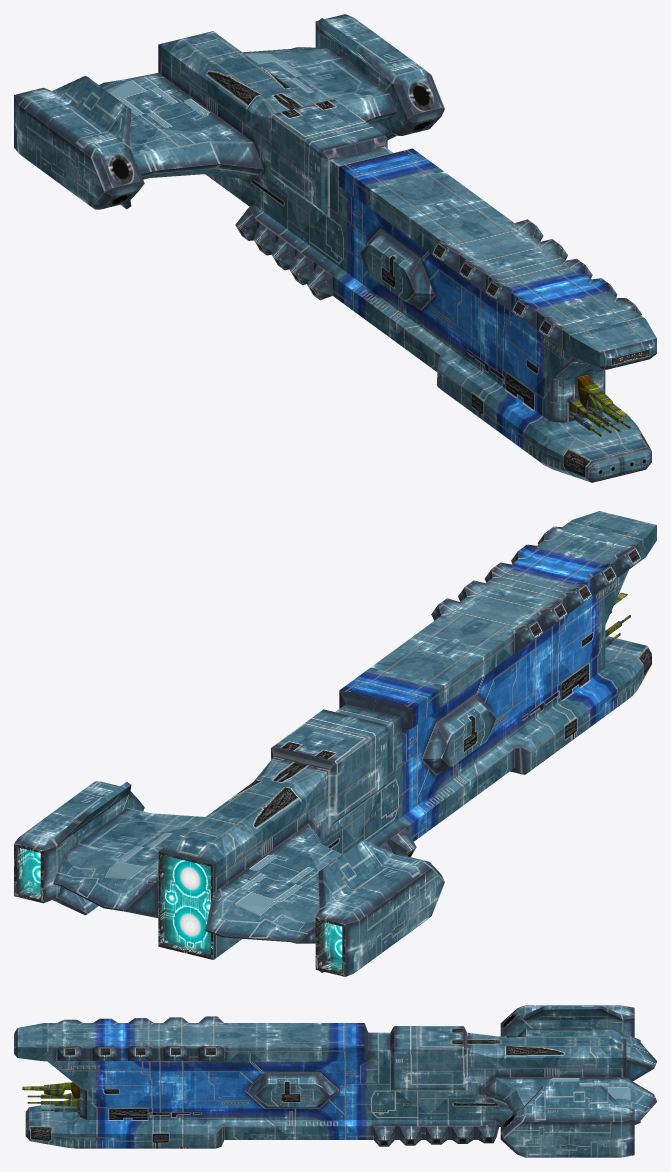
File: kahan.gltf
The picture shows the model from 3 angles, top to bottom: view 1: azimuth 30°, elevation 25°; view 2: azimuth 150°, elevation 25°; view 3: azimuth 270°, elevation 25°; orthographic projection. The views are drawn at different scales.
Parts seen in each view (by area): view 1: base; view 2: base; view 3: base.
Part boxes in pixels (x1,y1,x2,y2): base: (14,14,656,482); base: (14,511,656,976); base: (14,1005,656,1157).
Bounding box in the file's own units: 5.79 × 2.44 × 13.77.
Materials: 1 (1 with a texture image).
